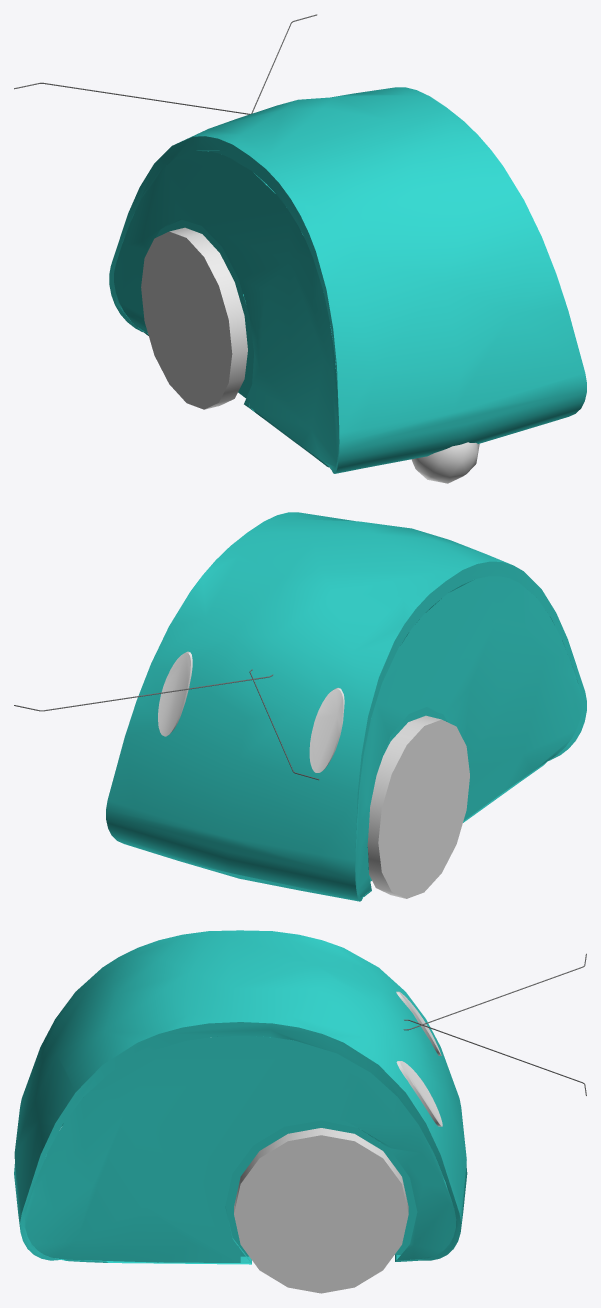
The model's file is car1_cyan.gltf.
3 views of the same model, one above another, from view 1: azimuth 30°, elevation 25°; view 2: azimuth 150°, elevation 25°; view 3: azimuth 270°, elevation 25° (orthographic). The views are drawn at different scales.
Parts seen in each view (by area): view 1: Cylinder.009_3, Cylinder.009; view 2: Cylinder.009_3, Cylinder.009; view 3: Cylinder.009_3, Cylinder.009.
Boxes of the visible parts, <box> form: Cylinder.009_3: <box>109,87,586,483</box>; Cylinder.009: <box>14,14,317,114</box>; Cylinder.009_3: <box>106,512,586,901</box>; Cylinder.009: <box>14,669,319,780</box>; Cylinder.009_3: <box>14,930,467,1293</box>; Cylinder.009: <box>403,953,586,1095</box>.
Size of the model in its own units: 0.1217 by 0.1085 by 0.2082.
